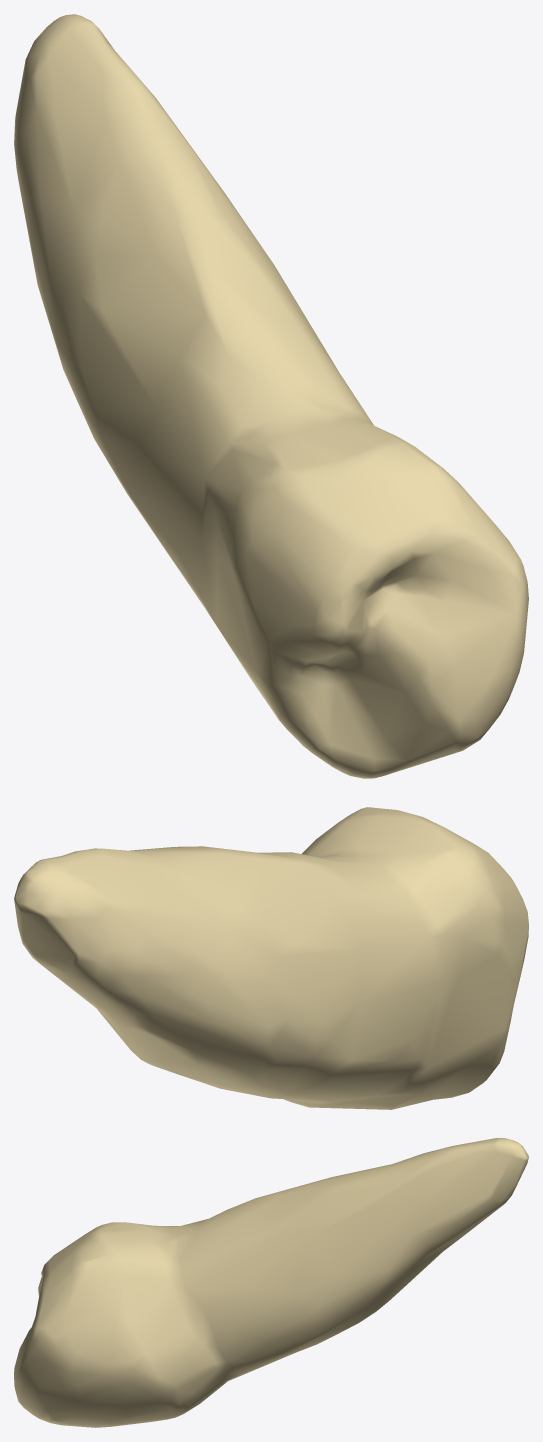
3 views of the same model, one above another, from view 1: azimuth 30°, elevation 25°; view 2: azimuth 150°, elevation 25°; view 3: azimuth 270°, elevation 25° (orthographic). The views are drawn at different scales.
Visible parts, largest first — view 1: 左侧下颌第一前磨牙; view 2: 左侧下颌第一前磨牙; view 3: 左侧下颌第一前磨牙.
Boxes of the visible parts, <box> form: 左侧下颌第一前磨牙: <box>14,14,528,778</box>; 左侧下颌第一前磨牙: <box>14,807,528,1109</box>; 左侧下颌第一前磨牙: <box>14,1138,528,1427</box>.
Size of the model in its own units: 0.0115 by 0.0204 by 0.0324.
